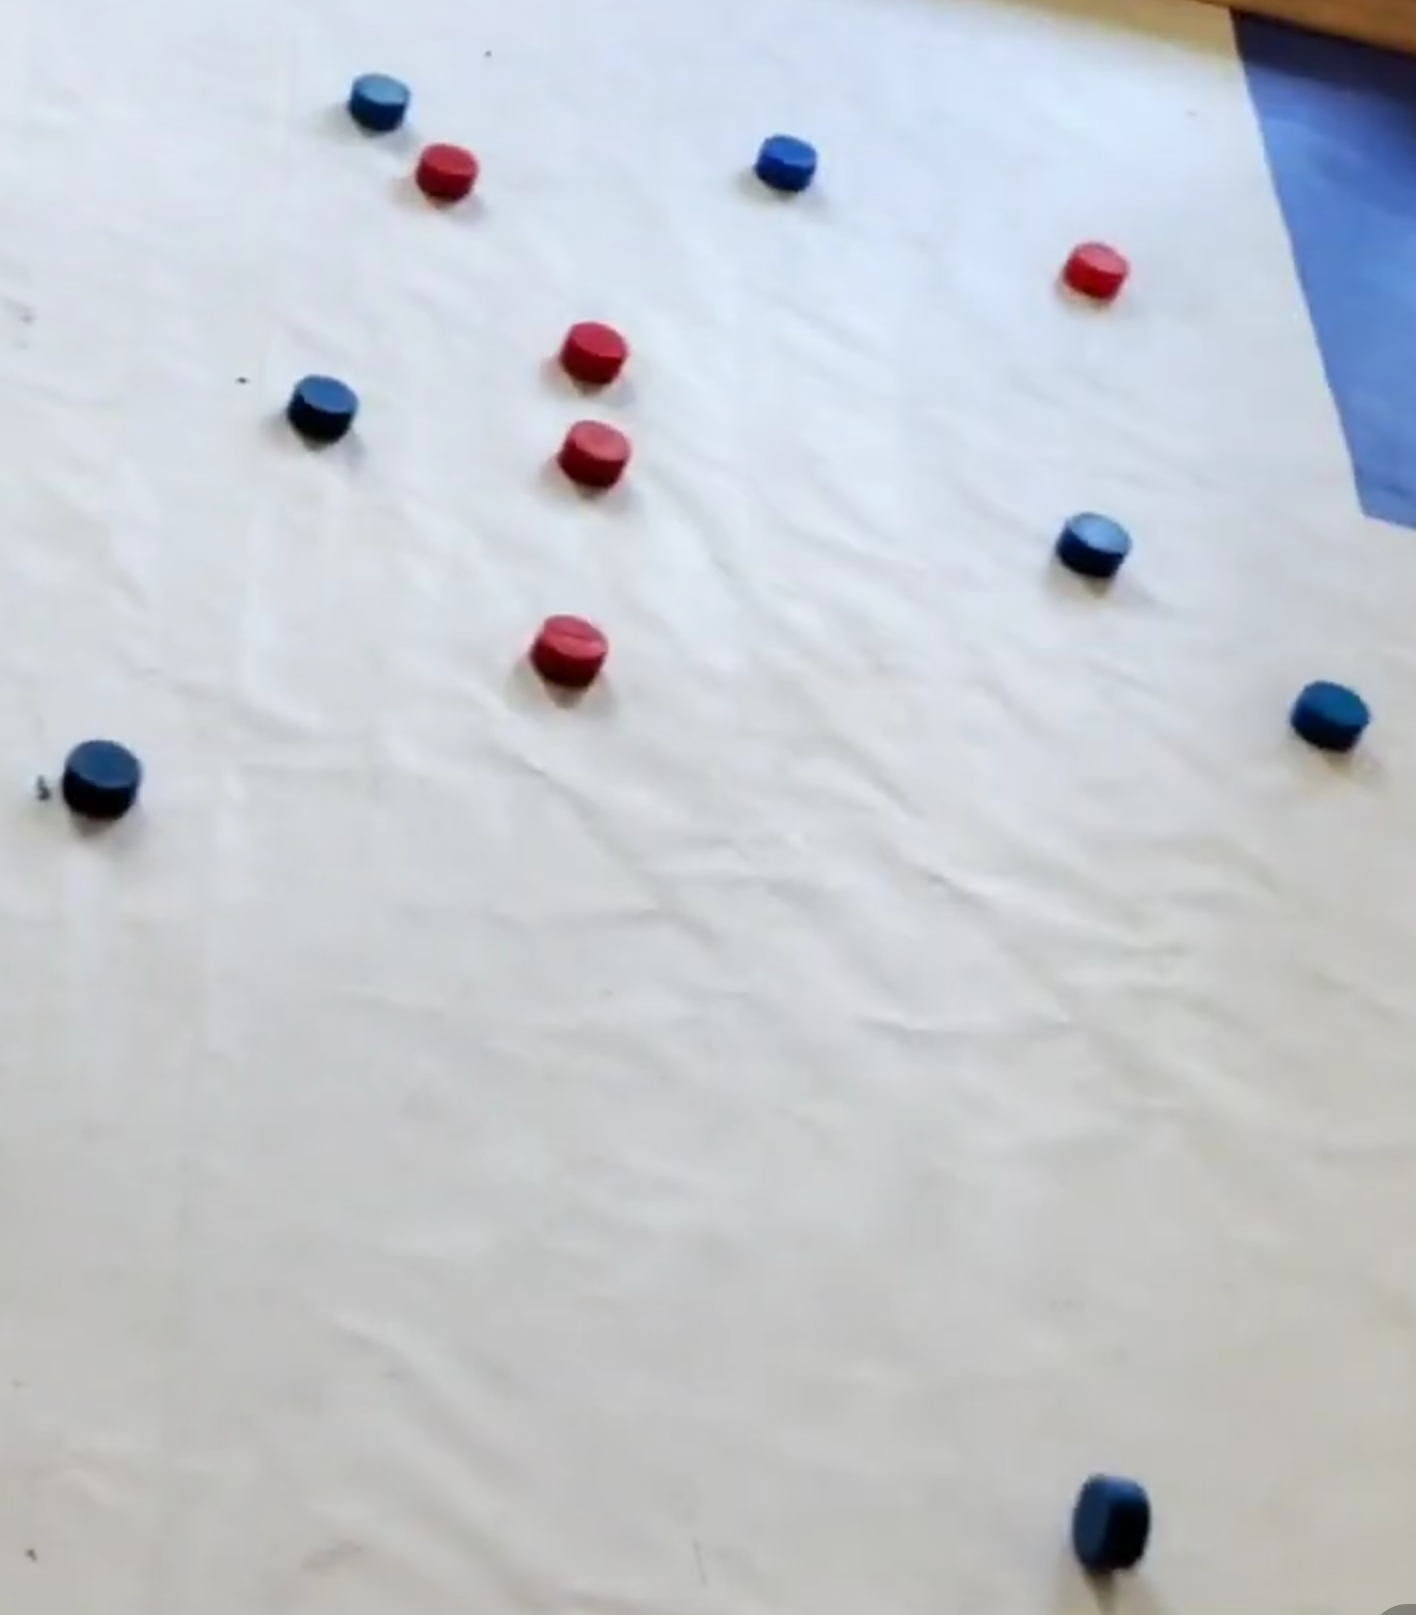blue_puck: (1069, 1474, 1150, 1577), (63, 742, 141, 820), (1290, 681, 1371, 755), (1056, 514, 1133, 581), (288, 375, 358, 439), (349, 71, 411, 129), (755, 132, 819, 187)
red_puck: (533, 614, 607, 689), (558, 419, 630, 486), (560, 319, 628, 387), (1062, 240, 1130, 301), (415, 141, 478, 201)
